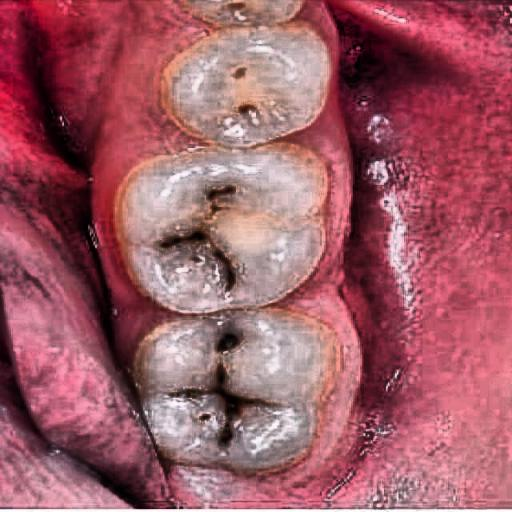Caries: (126, 124, 300, 456), (169, 14, 302, 140)
